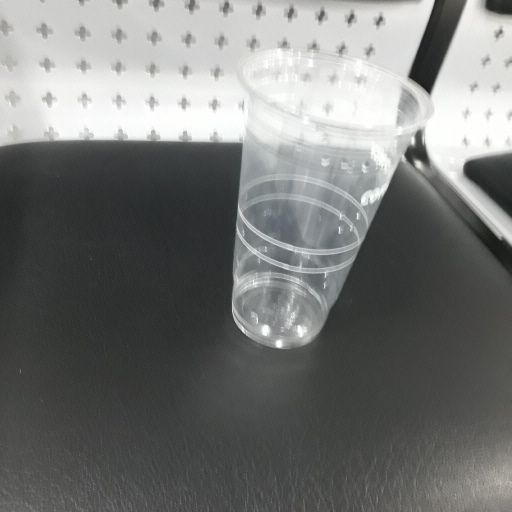Plastic_2: (231, 50, 436, 351)
